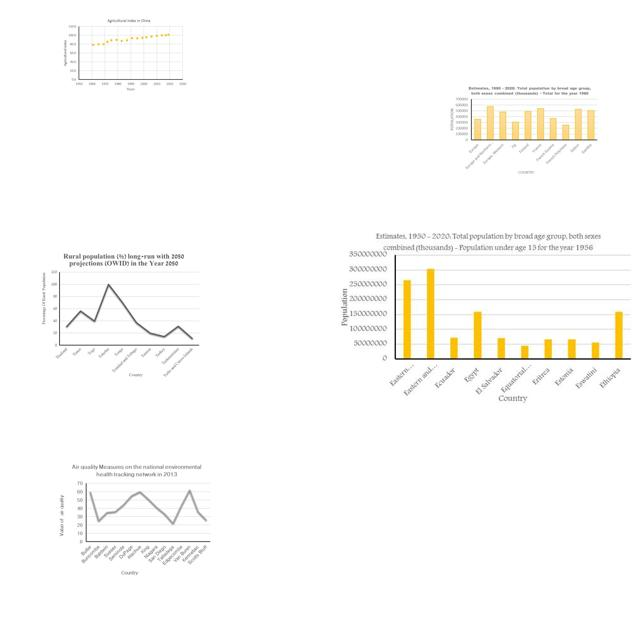Graph: (339, 228, 634, 404), (39, 252, 201, 381), (55, 461, 217, 577), (446, 84, 600, 175), (60, 16, 188, 91)
